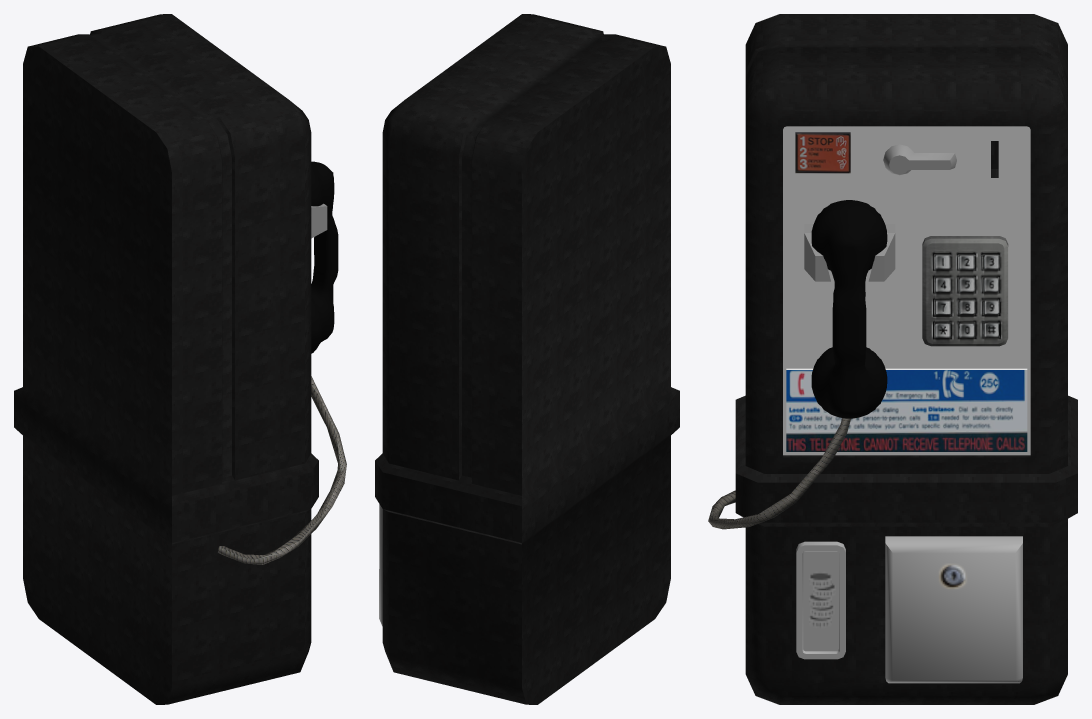
The model's file is payphone.glb.
3 views of the same model, side by side, from view 1: azimuth 30°, elevation 25°; view 2: azimuth 150°, elevation 25°; view 3: azimuth 270°, elevation 25° (orthographic). The views are drawn at different scales.
Parts seen in each view (by area): view 1: Payphone, Cylinder, Cable; view 2: Payphone; view 3: Payphone, Sticker.001, Cylinder, Keypad, Thing, Sticker, Cable, Holder, Crank.
Boxes of the visible parts, x1,y1,x2,y2 form: Payphone: (14,14,318,704); Cylinder: (311,161,338,353); Cable: (218,376,346,564); Payphone: (375,14,679,704); Payphone: (735,14,1077,704); Sticker.001: (786,368,1027,451); Cylinder: (811,200,887,418); Keypad: (922,236,1008,346); Thing: (796,541,845,659); Sticker: (795,132,850,173); Cable: (708,418,850,529); Holder: (804,224,895,281); Crank: (883,144,956,175).
Bounding box in the file's own units: 0.1101 × 0.2814 × 0.152.
Materials: 6 (3 with a texture image).
